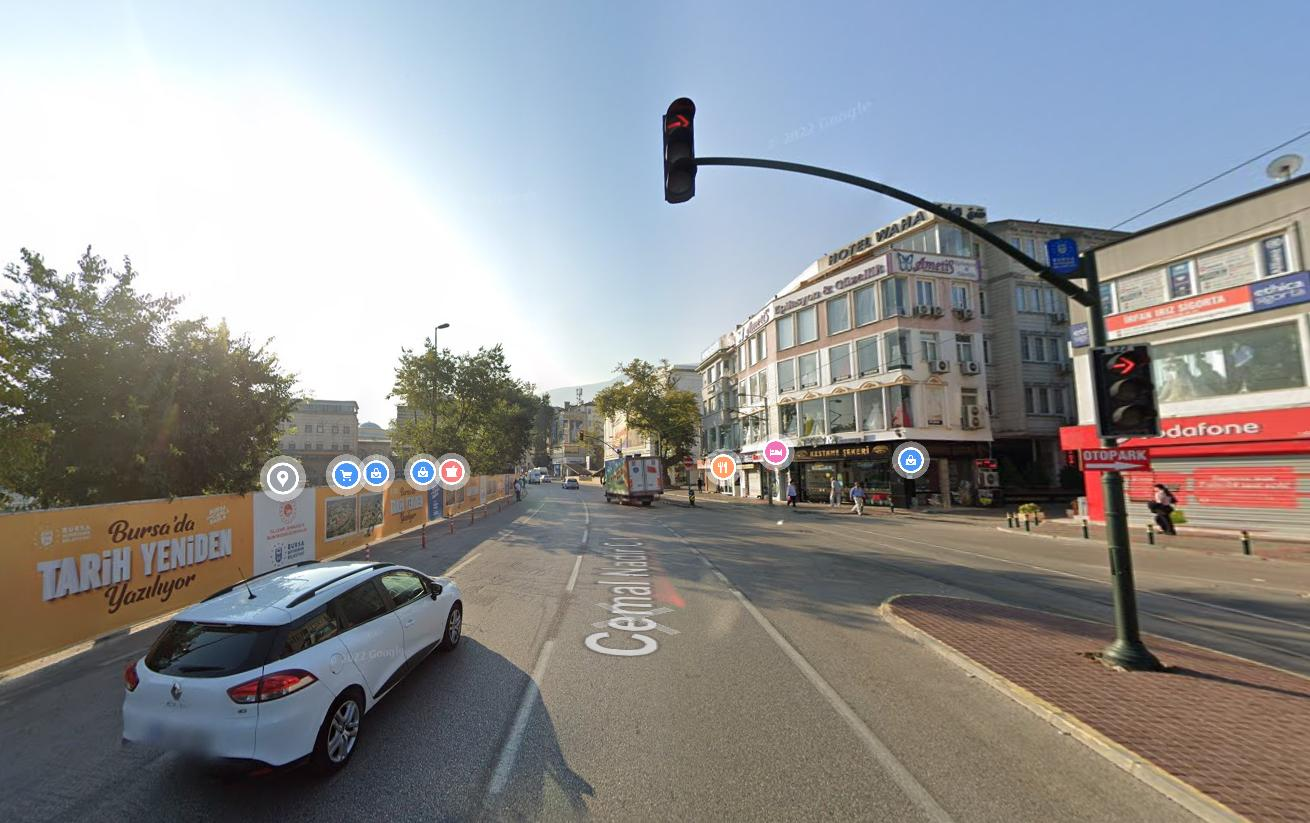redlight: (1094, 347, 1152, 442), (662, 100, 700, 204)
